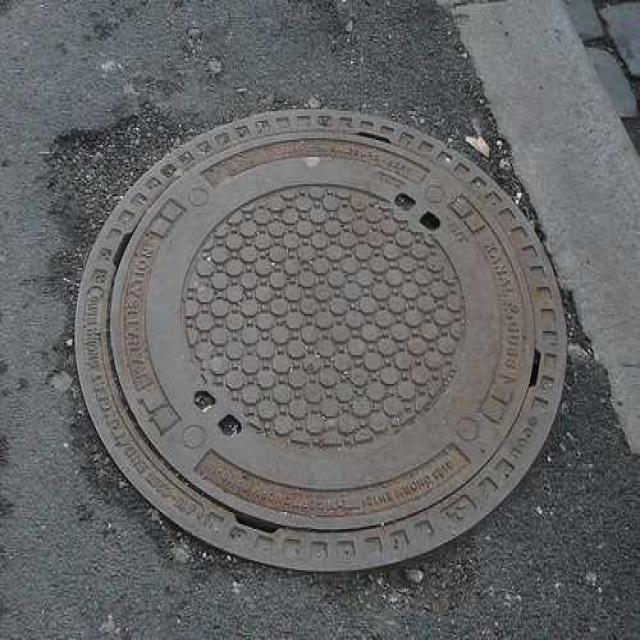manhole: (75, 110, 565, 571)
